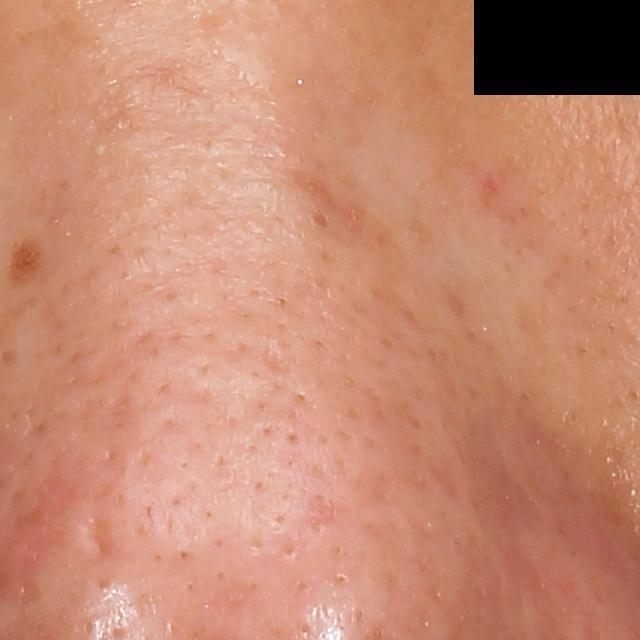atrophic_scar: (85, 507, 117, 559)
comedo: (310, 209, 332, 232)
nevus: (7, 236, 44, 285)
